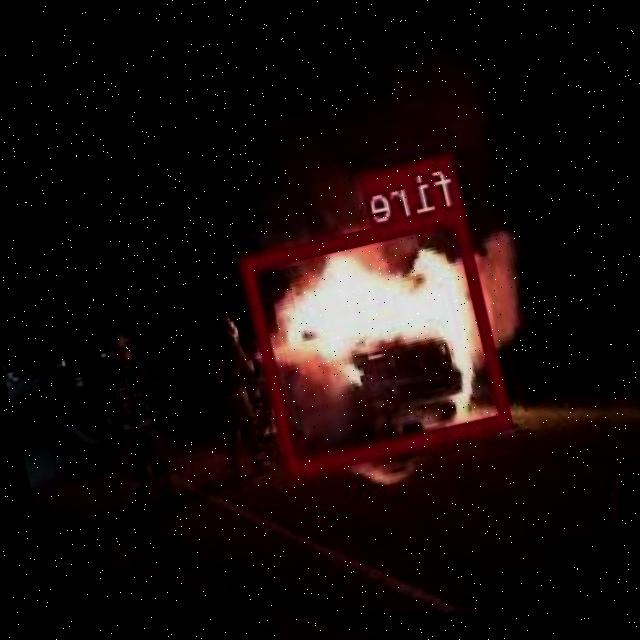fire: (241, 203, 514, 474)
